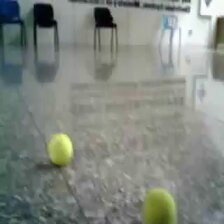tennis: (140, 187, 175, 224), (47, 133, 72, 166)
